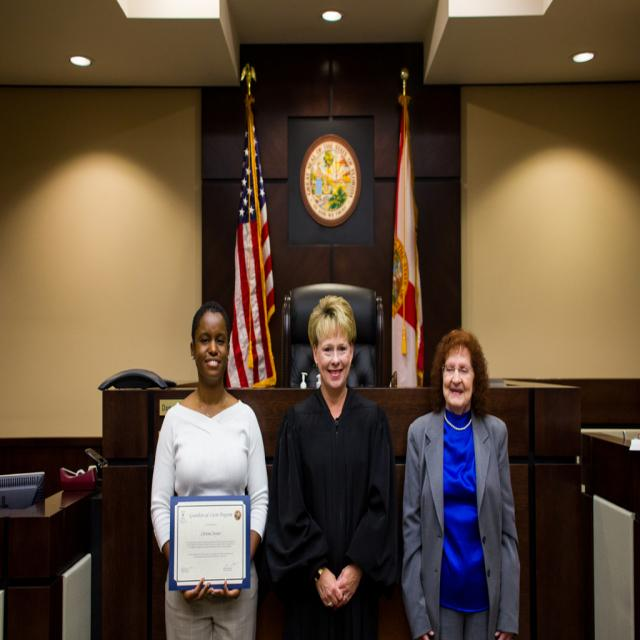desk: (2, 440, 114, 630)
person: (264, 293, 398, 638), (148, 300, 270, 639), (399, 327, 522, 635)
